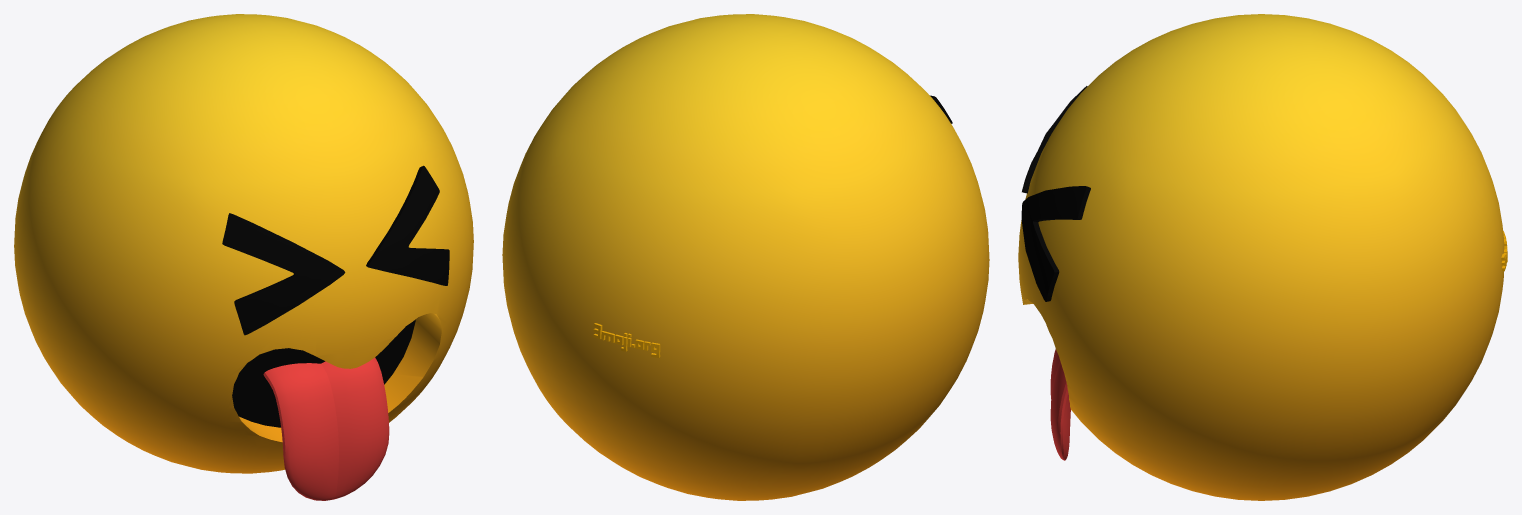
File: squinting_face_with_tongue.fbx
3 views of the same model, side by side, from view 1: azimuth 30°, elevation 25°; view 2: azimuth 150°, elevation 25°; view 3: azimuth 270°, elevation 25° (orthographic). The views are drawn at different scales.
Visible parts, largest first — view 1: Squinting Face with Tongue; view 2: Squinting Face with Tongue; view 3: Squinting Face with Tongue.
Boxes of the visible parts, bbox=[...] form: Squinting Face with Tongue: bbox=[14, 14, 473, 500]; Squinting Face with Tongue: bbox=[502, 14, 989, 500]; Squinting Face with Tongue: bbox=[1018, 14, 1507, 500].
Bounding box in the file's own units: 169 × 169 × 170.
Materials: 1 (1 with a texture image).
